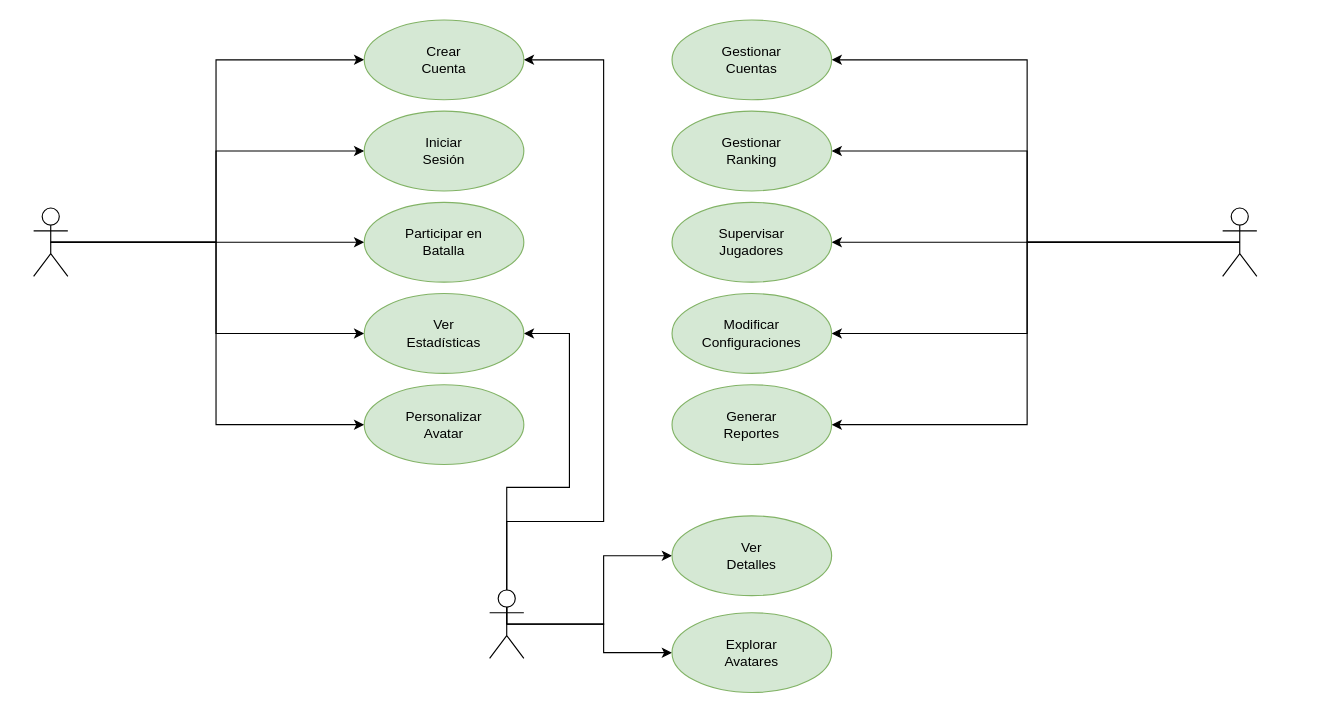
Image size: 1317x713. Some labels were removed from this diagram. Here are the shapes that lost their labels. From the top down, the centre of each, then its label:
the point at 50,241: USUARIO
the point at 1239,241: ADMINISTRADOR
the point at 506,623: VISITANTE
